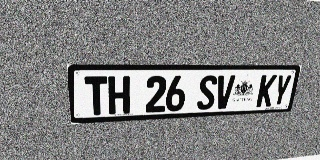2: (146, 76, 167, 113)
6: (165, 75, 187, 112)
H: (108, 76, 130, 114)
K: (256, 75, 277, 107)
S: (196, 75, 218, 110)
T: (84, 76, 108, 116)
V: (214, 75, 235, 109)
Y: (271, 75, 292, 106)
